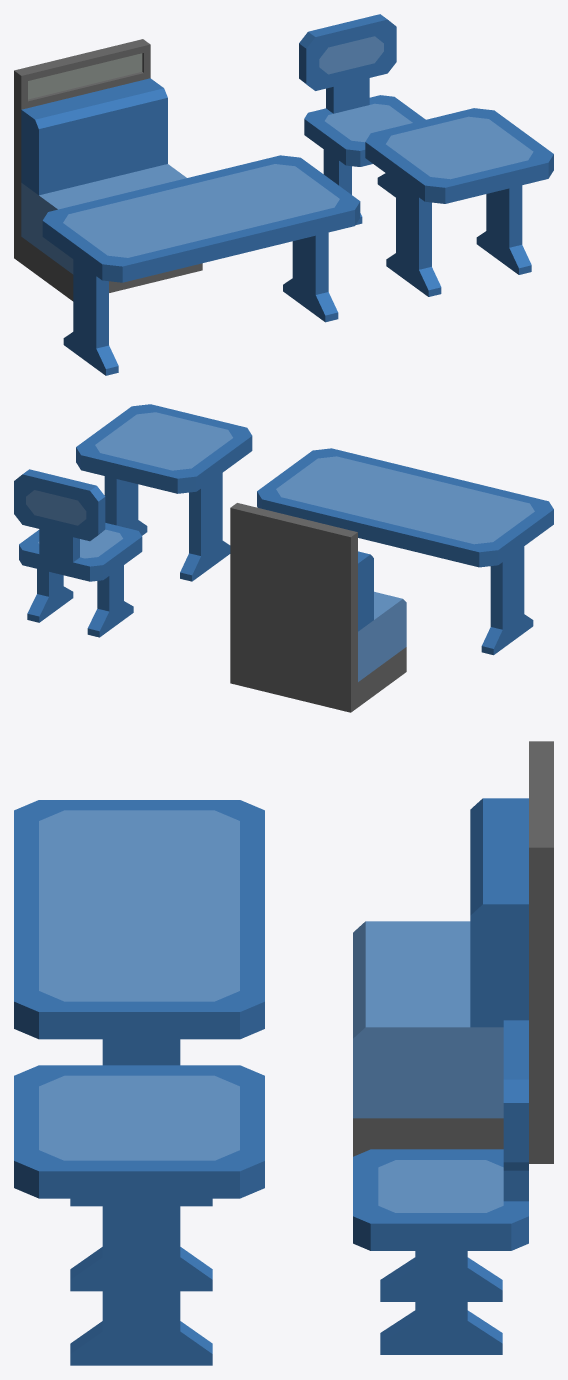
File: Seating06.fbx
3 views of the same model, one above another, from view 1: azimuth 30°, elevation 25°; view 2: azimuth 150°, elevation 25°; view 3: azimuth 270°, elevation 25° (orthographic). The views are drawn at different scales.
Visible parts, largest first — view 1: Table_Long, Sofa, Table, Chair; view 2: Sofa, Table_Long, Table, Chair; view 3: Table_Long, Sofa, Table, Chair.
Boxes of the visible parts, box(x1,y1,x2,y2) form: Table_Long: box(42, 155, 360, 375); Sofa: box(14, 39, 202, 301); Table: box(365, 108, 553, 296); Chair: box(299, 14, 425, 224); Sofa: box(230, 503, 406, 712); Table_Long: box(257, 448, 553, 655); Table: box(76, 404, 252, 581); Chair: box(14, 469, 142, 637); Table_Long: box(14, 800, 264, 1206); Sofa: box(353, 741, 553, 1163); Table: box(14, 1065, 264, 1365); Chair: box(353, 1020, 528, 1354).
Size of the model in its own units: 3.5 by 1.39 by 2.15.
1 material, 1 textured.
